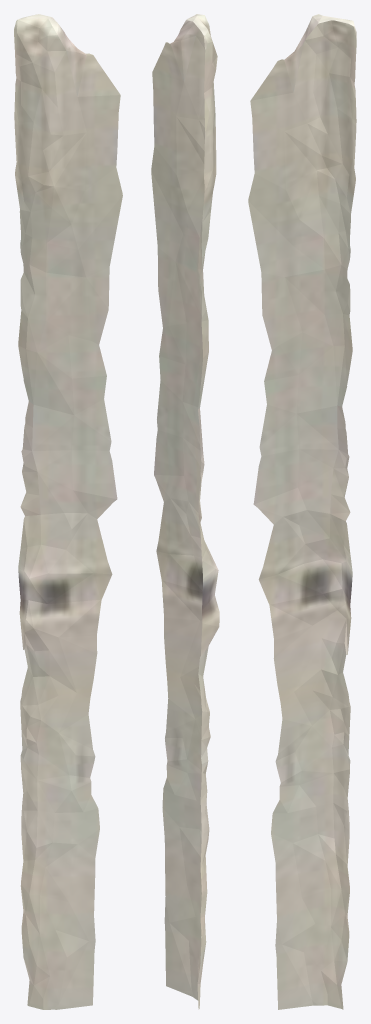
Rendered from Tile_+001_+005_L22_00030300.glb.
The picture shows the model from 3 angles, left to right: view 1: azimuth 90°, elevation 25°; view 2: azimuth 210°, elevation 25°; view 3: azimuth 270°, elevation 25°; orthographic projection.
Parts seen in each view (by area): view 1: rtc; view 2: rtc; view 3: rtc.
Part boxes in pixels (x1,y1,x2,y2): rtc: (14, 14, 122, 1009); rtc: (151, 14, 219, 1009); rtc: (248, 14, 356, 1009).
Bounding box in the file's own units: 0.3572 × 13.95 × 1.39.
1 material, 1 textured.
